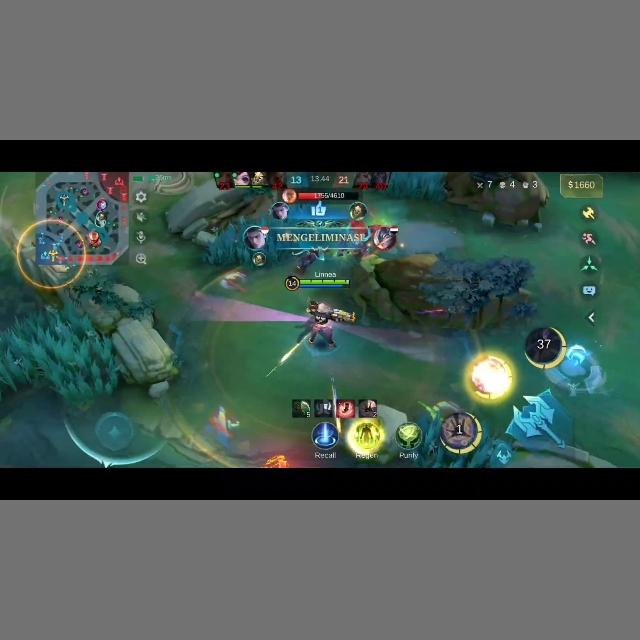hp_enemy: (300, 190, 354, 200)
hp_self: (289, 278, 350, 288)
